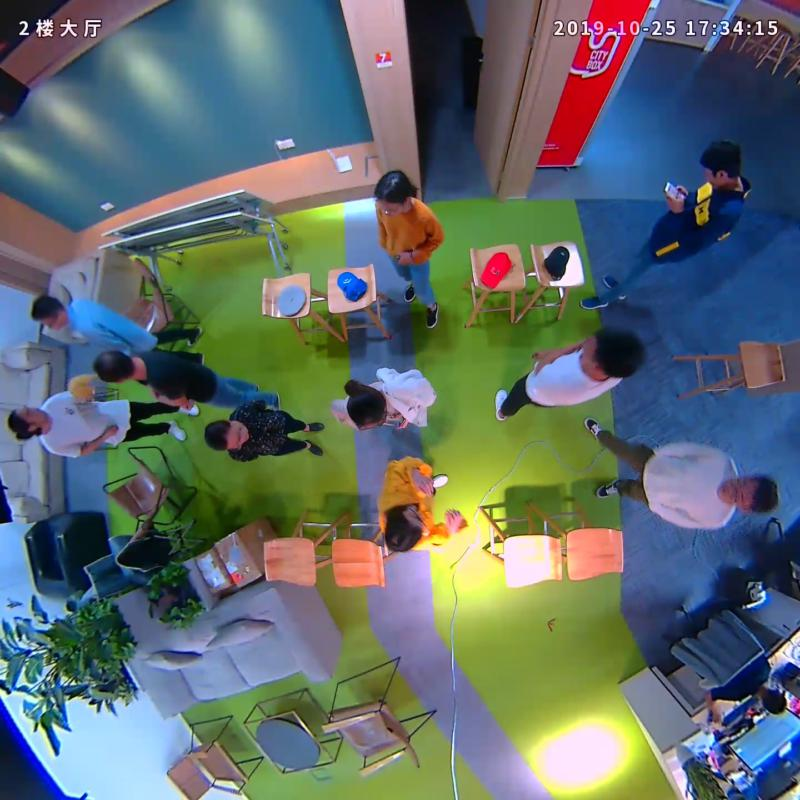head: (582, 326, 644, 378), (719, 475, 778, 516), (700, 140, 742, 187), (385, 506, 423, 554), (374, 168, 409, 219), (347, 387, 387, 431), (204, 418, 249, 451), (30, 293, 68, 330), (93, 350, 134, 383), (7, 406, 46, 438)
